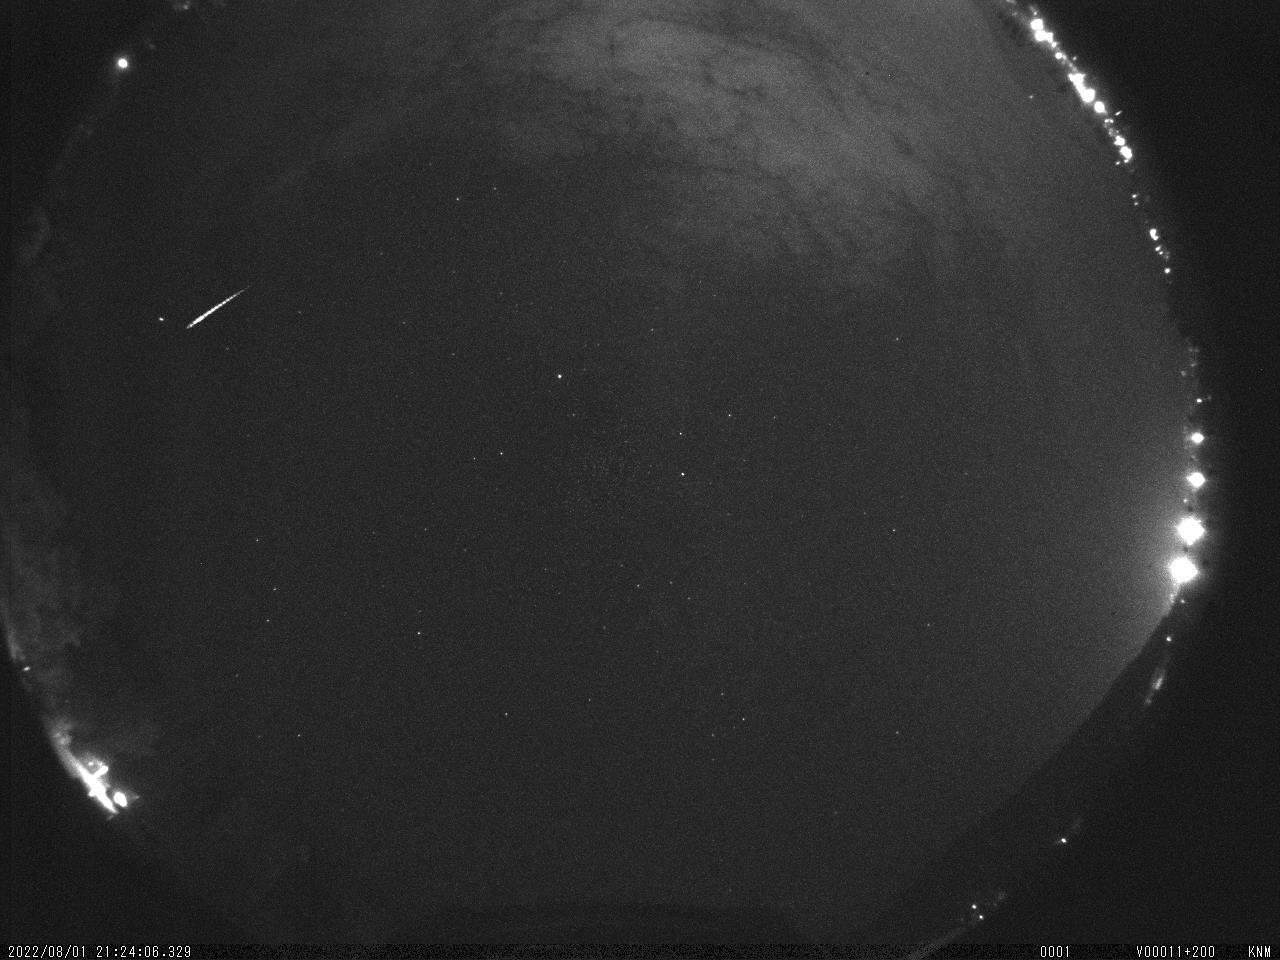Meteor: (180, 281, 253, 329)
